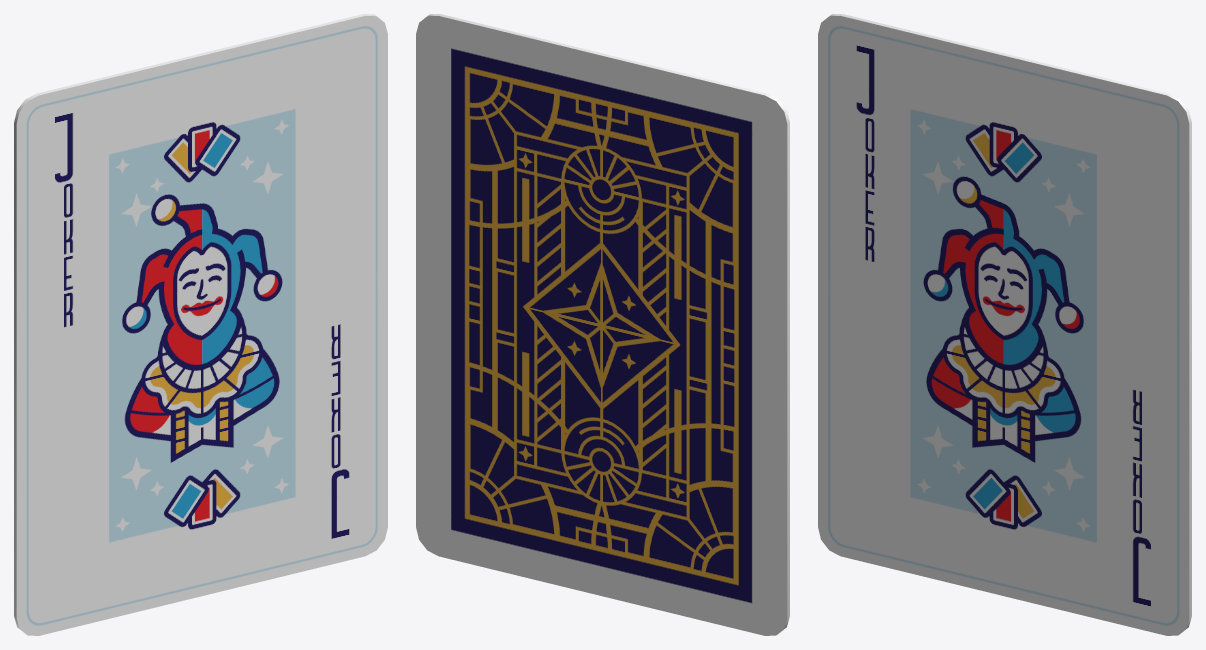
File: card_joker_A.obj
3 renders of one model, left to right at view 1: azimuth 30°, elevation 25°; view 2: azimuth 150°, elevation 25°; view 3: azimuth 330°, elevation 25°, orthographic.
Visible parts, largest first — view 1: card_joker_A; view 2: card_joker_A; view 3: card_joker_A.
Boxes of the visible parts, x1,y1,x2,y2 form: card_joker_A: (14, 14, 387, 635); card_joker_A: (416, 14, 789, 635); card_joker_A: (818, 14, 1191, 635).
Size of the model in its own units: 4.31 by 6 by 0.05.
2 materials, 2 textured.
